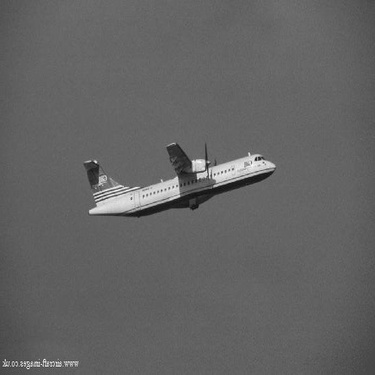airplane: (36, 140, 287, 230)
